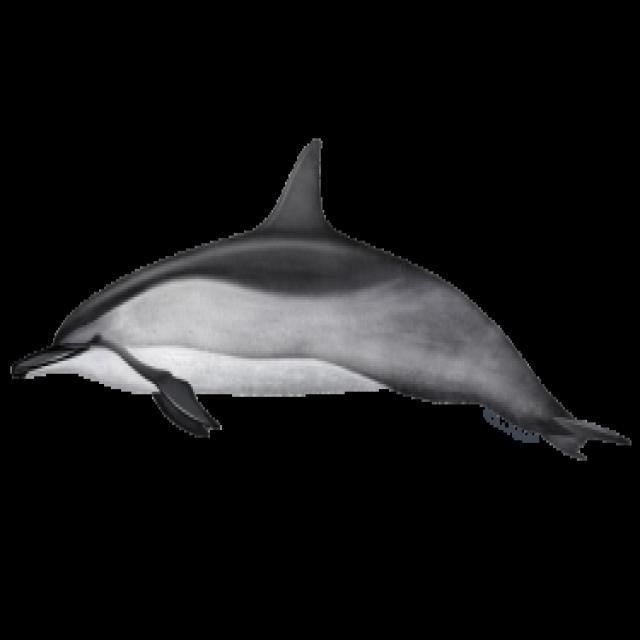penguin: (12, 138, 628, 458)
shark: (15, 138, 628, 458)
